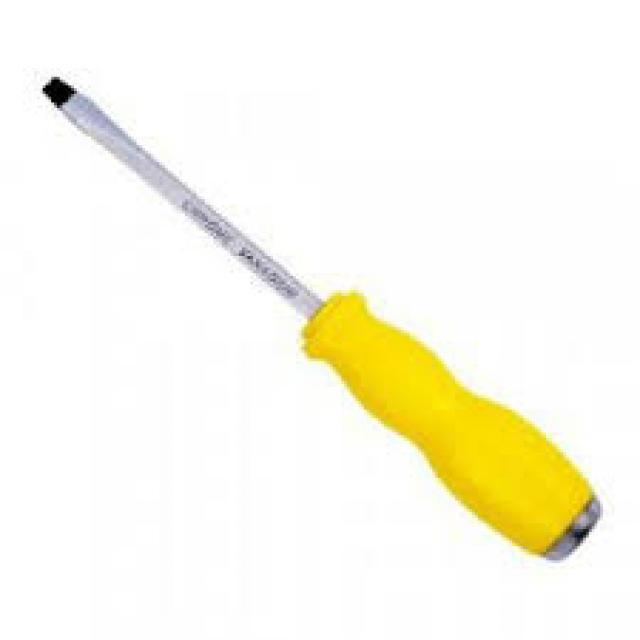screwdriver: (39, 70, 600, 568)
